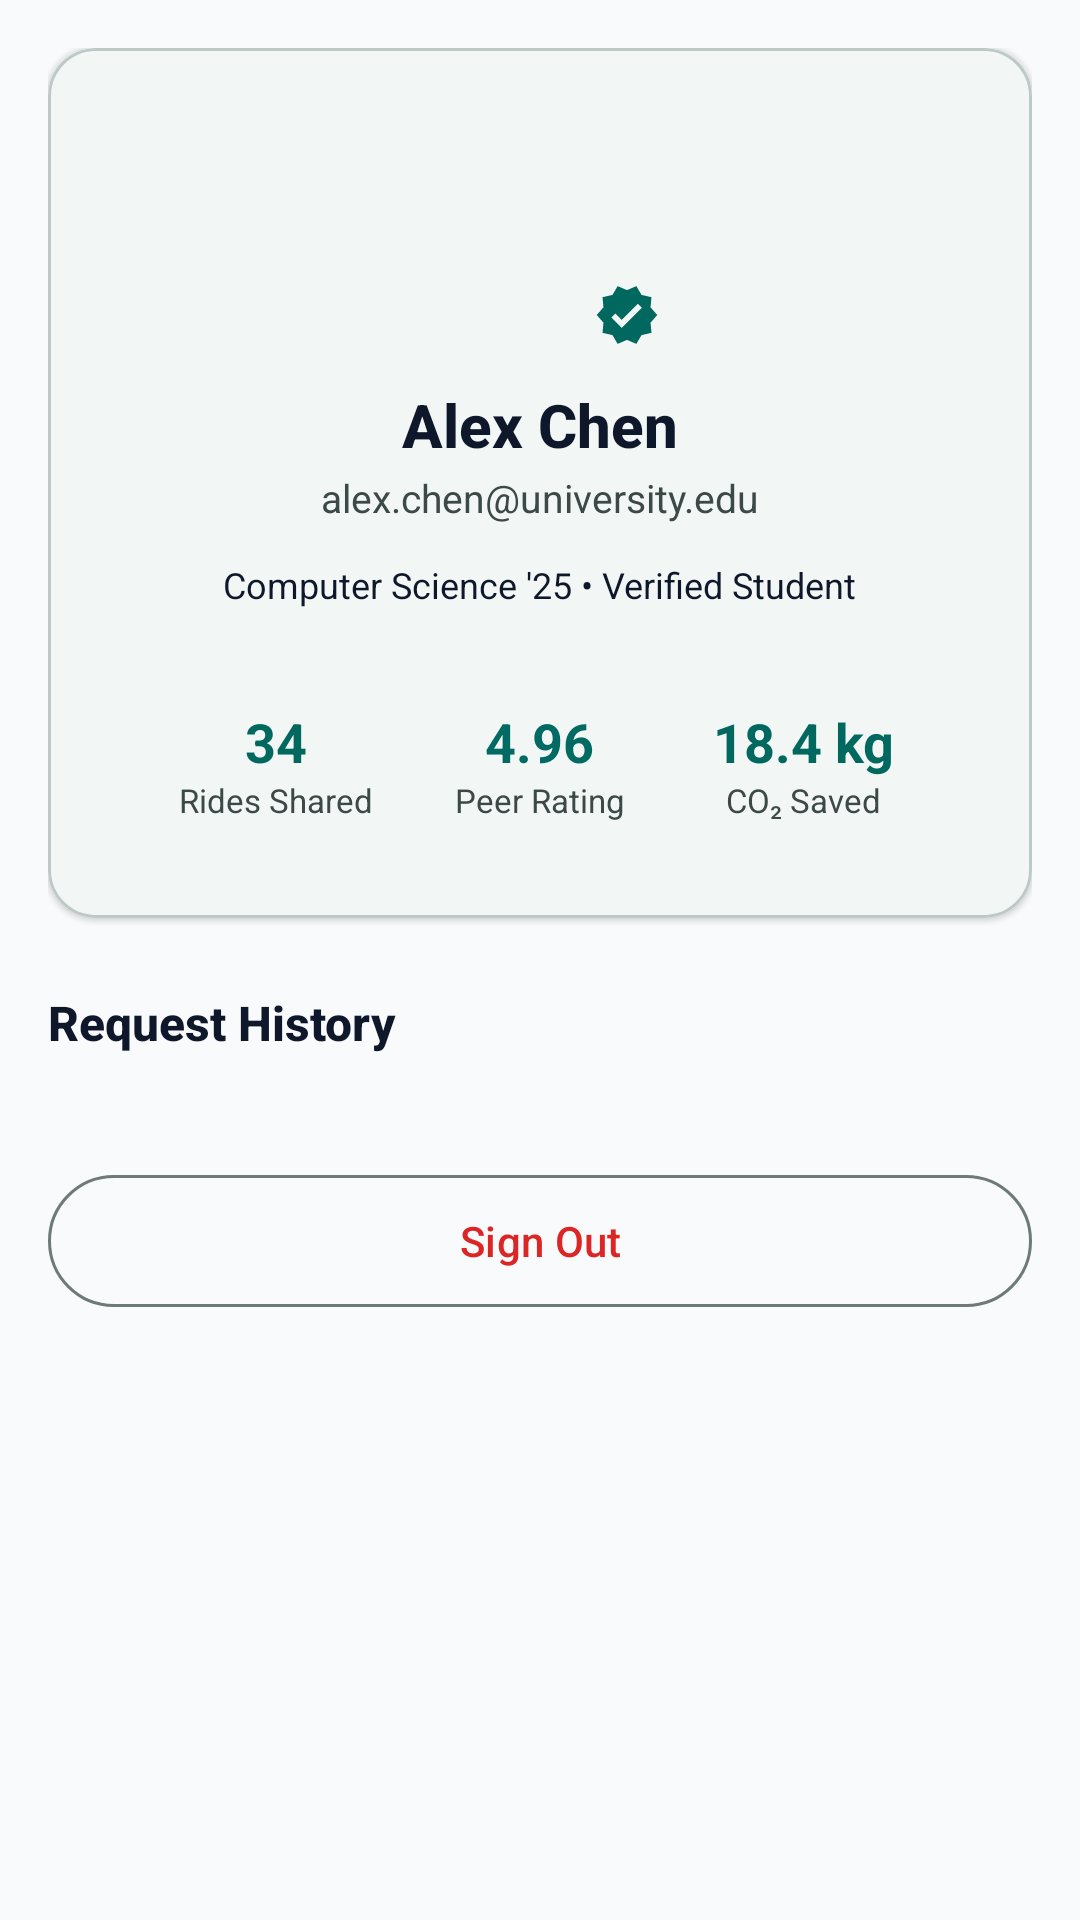

Icon bounding boxes for this 1080 x 1920 phone screenshot, format bbox=(x1, y1, x2, y2):
verified: bbox=(597, 286, 657, 344)
